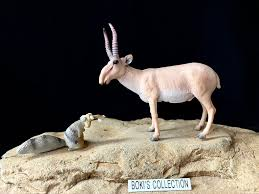saiga: (96, 22, 224, 143)
